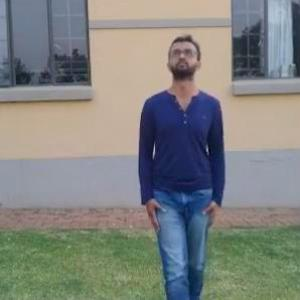follow: (134, 26, 230, 296)
